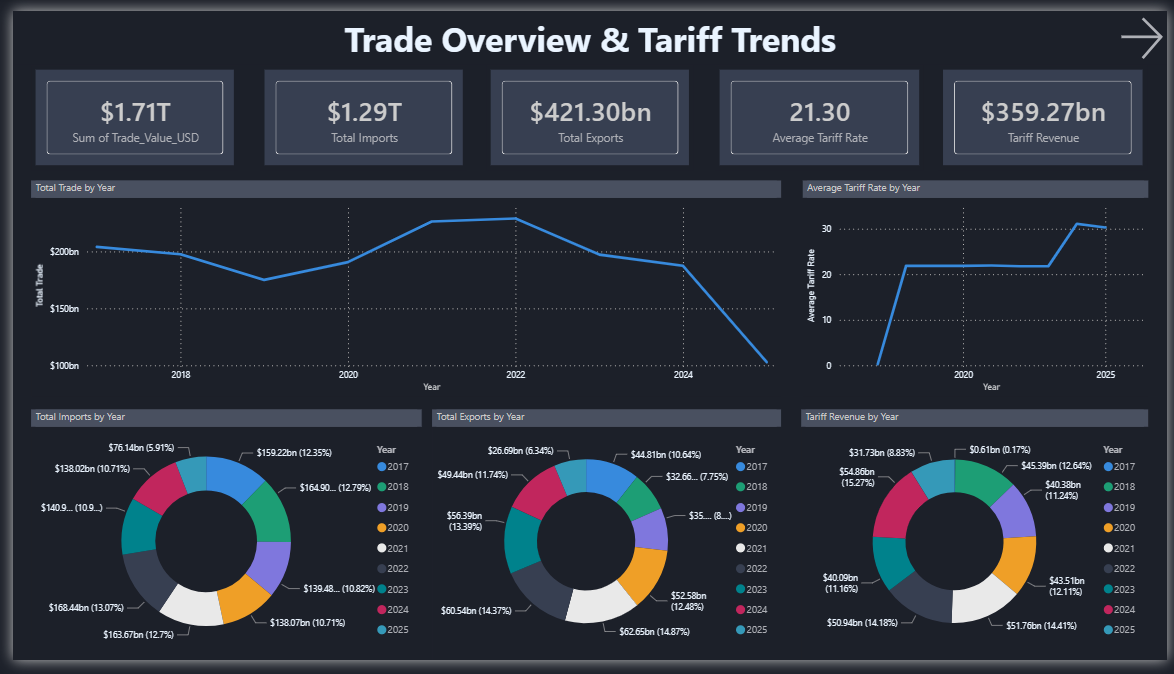

The dashboard page shown, as its layout file describes it:
{"tool":"powerbi","page":{"name":"Page 2","canvas":[1280,720],"ordinal":0},"visuals":[{"type":"cardVisual","fields":{"Data":["Sum(trade_total_clean.Trade_Value_USD)"]},"box":[41.3,27,230.4,116.6],"z":0},{"type":"cardVisual","fields":{"Data":["trade_total_clean.Total Imports"]},"box":[281.7,27,230.4,116.6],"z":1000},{"type":"cardVisual","fields":{"Data":["trade_total_clean.Total Exports"]},"box":[524.9,27,230.4,116.6],"z":2000},{"type":"cardVisual","fields":{"Data":["trade_total_clean.Average Tariff Rate"]},"box":[773.8,27,230.4,116.6],"z":3000},{"type":"cardVisual","fields":{"Data":["trade_total_clean.Tariff Revenue"]},"box":[1015.7,27,230.4,116.6],"z":4000},{"type":"lineChart","fields":{"Category":["trade_total_clean.Year"],"Y":["trade_total_clean.Total Trade"]},"box":[19.9,156.5,832.2,240.4],"z":5000},{"type":"donutChart","fields":{"Category":["trade_total_clean.Year"],"Y":["trade_total_clean.Total Imports"]},"box":[19.9,418.2,433.9,278.8],"z":6000},{"type":"donutChart","fields":{"Category":["trade_total_clean.Year"],"Y":["trade_total_clean.Total Exports"]},"box":[473.7,418.2,385.5,278.8],"z":7000},{"type":"donutChart","fields":{"Category":["trade_total_clean.Year"],"Y":["trade_total_clean.Tariff Revenue"]},"box":[873.4,418.2,385.5,278.8],"z":8000},{"type":"lineChart","fields":{"Y":["trade_total_clean.Average Tariff Rate"],"Category":["trade_total_clean.Year"]},"box":[874.8,157.9,384.1,240.4],"z":9000}]}

Visuals, with their boxes in screenshot pixels (x1, y1, x2, y2), scaled from the page's 1280x720 canvas onto the 1174x674 screenshot:
cardVisual - Sum(trade_total_clean.Trade_Value_USD): bbox=(38, 25, 249, 134)
cardVisual - trade_total_clean.Total Imports: bbox=(258, 25, 470, 134)
cardVisual - trade_total_clean.Total Exports: bbox=(481, 25, 693, 134)
cardVisual - trade_total_clean.Average Tariff Rate: bbox=(710, 25, 921, 134)
cardVisual - trade_total_clean.Tariff Revenue: bbox=(932, 25, 1143, 134)
lineChart - trade_total_clean.Year x trade_total_clean.Total Trade: bbox=(18, 147, 782, 372)
donutChart - trade_total_clean.Year x trade_total_clean.Total Imports: bbox=(18, 391, 416, 652)
donutChart - trade_total_clean.Year x trade_total_clean.Total Exports: bbox=(434, 391, 788, 652)
donutChart - trade_total_clean.Year x trade_total_clean.Tariff Revenue: bbox=(801, 391, 1155, 652)
lineChart - trade_total_clean.Average Tariff Rate x trade_total_clean.Year: bbox=(802, 148, 1155, 373)
